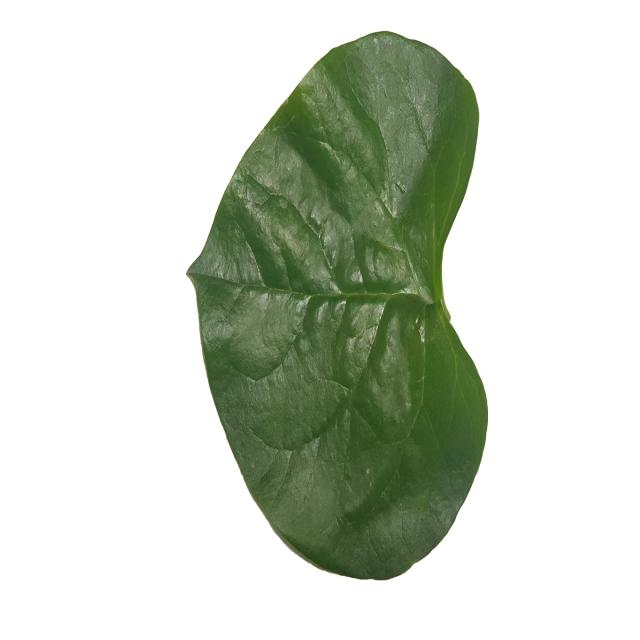Medicinal-Basale: (185, 27, 489, 581)
